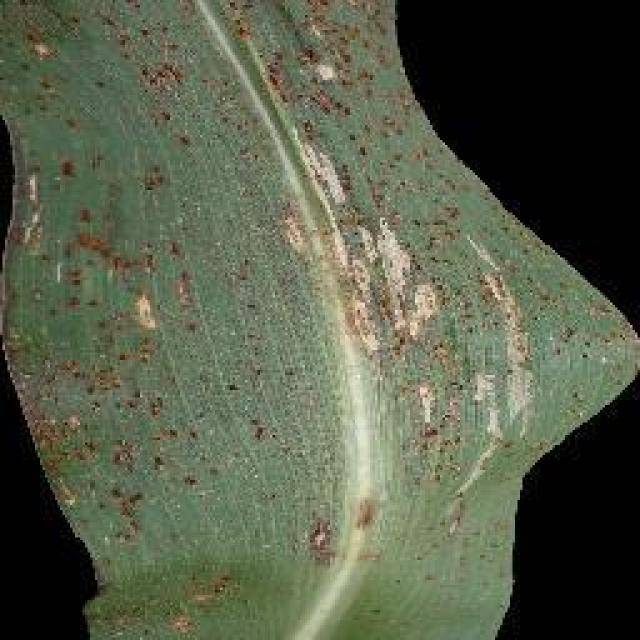Corn Common Rust: (87, 118, 575, 492)
